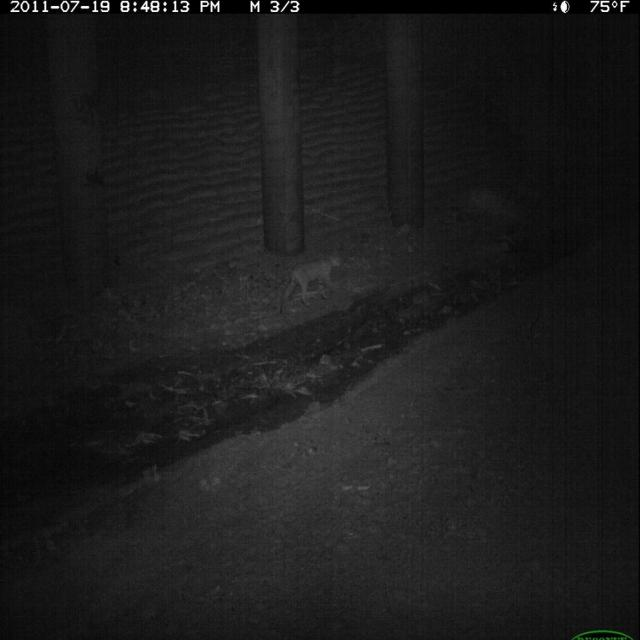bobcat: (279, 247, 346, 315)
